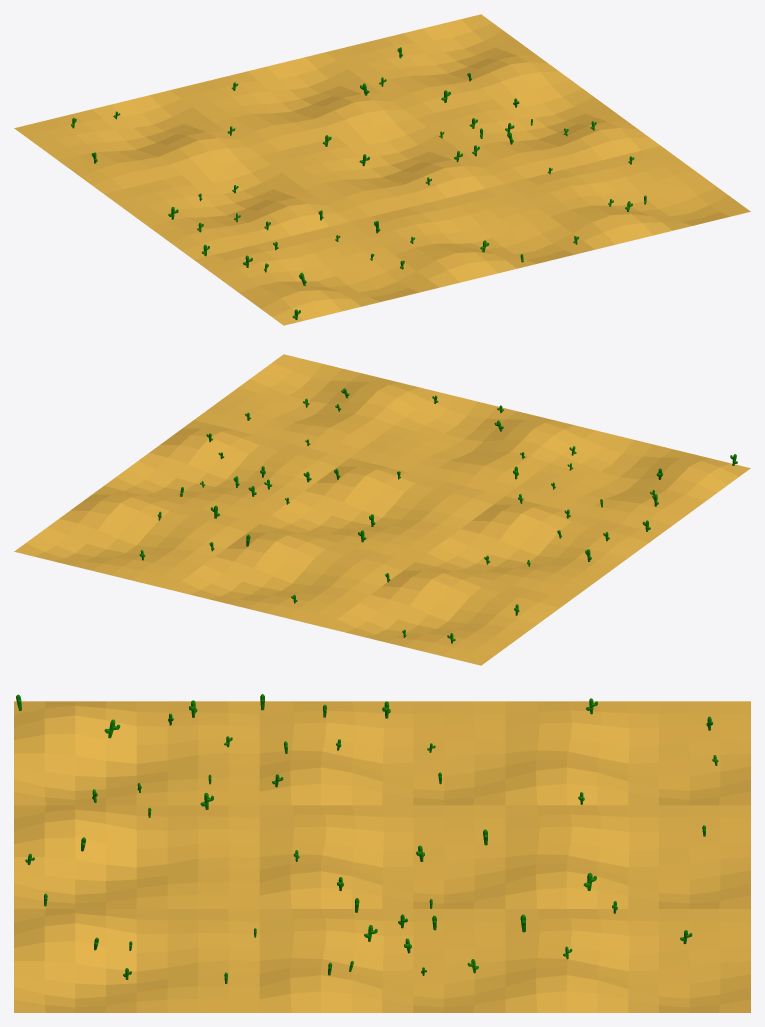
The model's file is Desert Pane.fbx.
The picture shows the model from 3 angles, top to bottom: view 1: azimuth 30°, elevation 25°; view 2: azimuth 150°, elevation 25°; view 3: azimuth 270°, elevation 25°; orthographic projection. The views are drawn at different scales.
Parts seen in each view (by area): view 1: Dessert Pane; view 2: Dessert Pane; view 3: Dessert Pane.
Boxes of the visible parts, x1,y1,x2,y2 form: Dessert Pane: (14,14,750,325); Dessert Pane: (14,354,750,665); Dessert Pane: (14,694,750,1012).
Bounding box in the file's own units: 30002 × 1559 × 30000.
